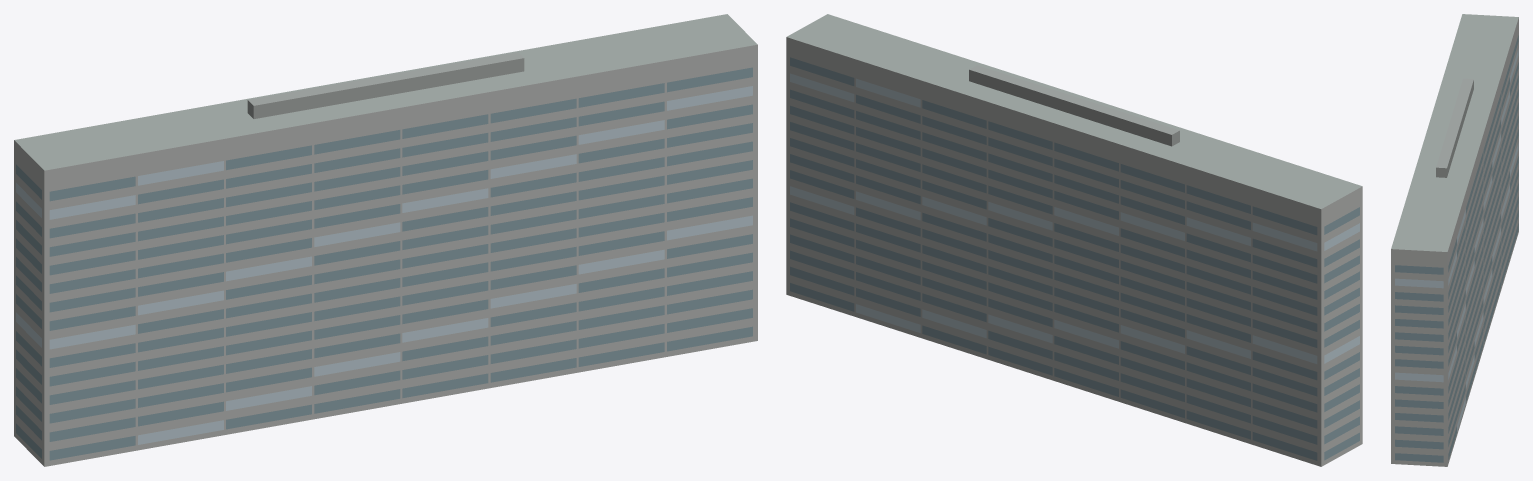
Rendered from fallback-olympic-athletes-village-323.glb.
3 renders of one model, left to right at view 1: azimuth 30°, elevation 25°; view 2: azimuth 150°, elevation 25°; view 3: azimuth 270°, elevation 25°, orthographic. The views are drawn at different scales.
Parts seen in each view (by area): view 1: fallback-olympic-athletes-village-323; view 2: fallback-olympic-athletes-village-323; view 3: fallback-olympic-athletes-village-323.
Part boxes in pixels (bbox=[...]): fallback-olympic-athletes-village-323: bbox=[14, 14, 757, 466]; fallback-olympic-athletes-village-323: bbox=[786, 14, 1362, 466]; fallback-olympic-athletes-village-323: bbox=[1391, 14, 1518, 466].
Size of the model in its own units: 116 by 51 by 26.33.
